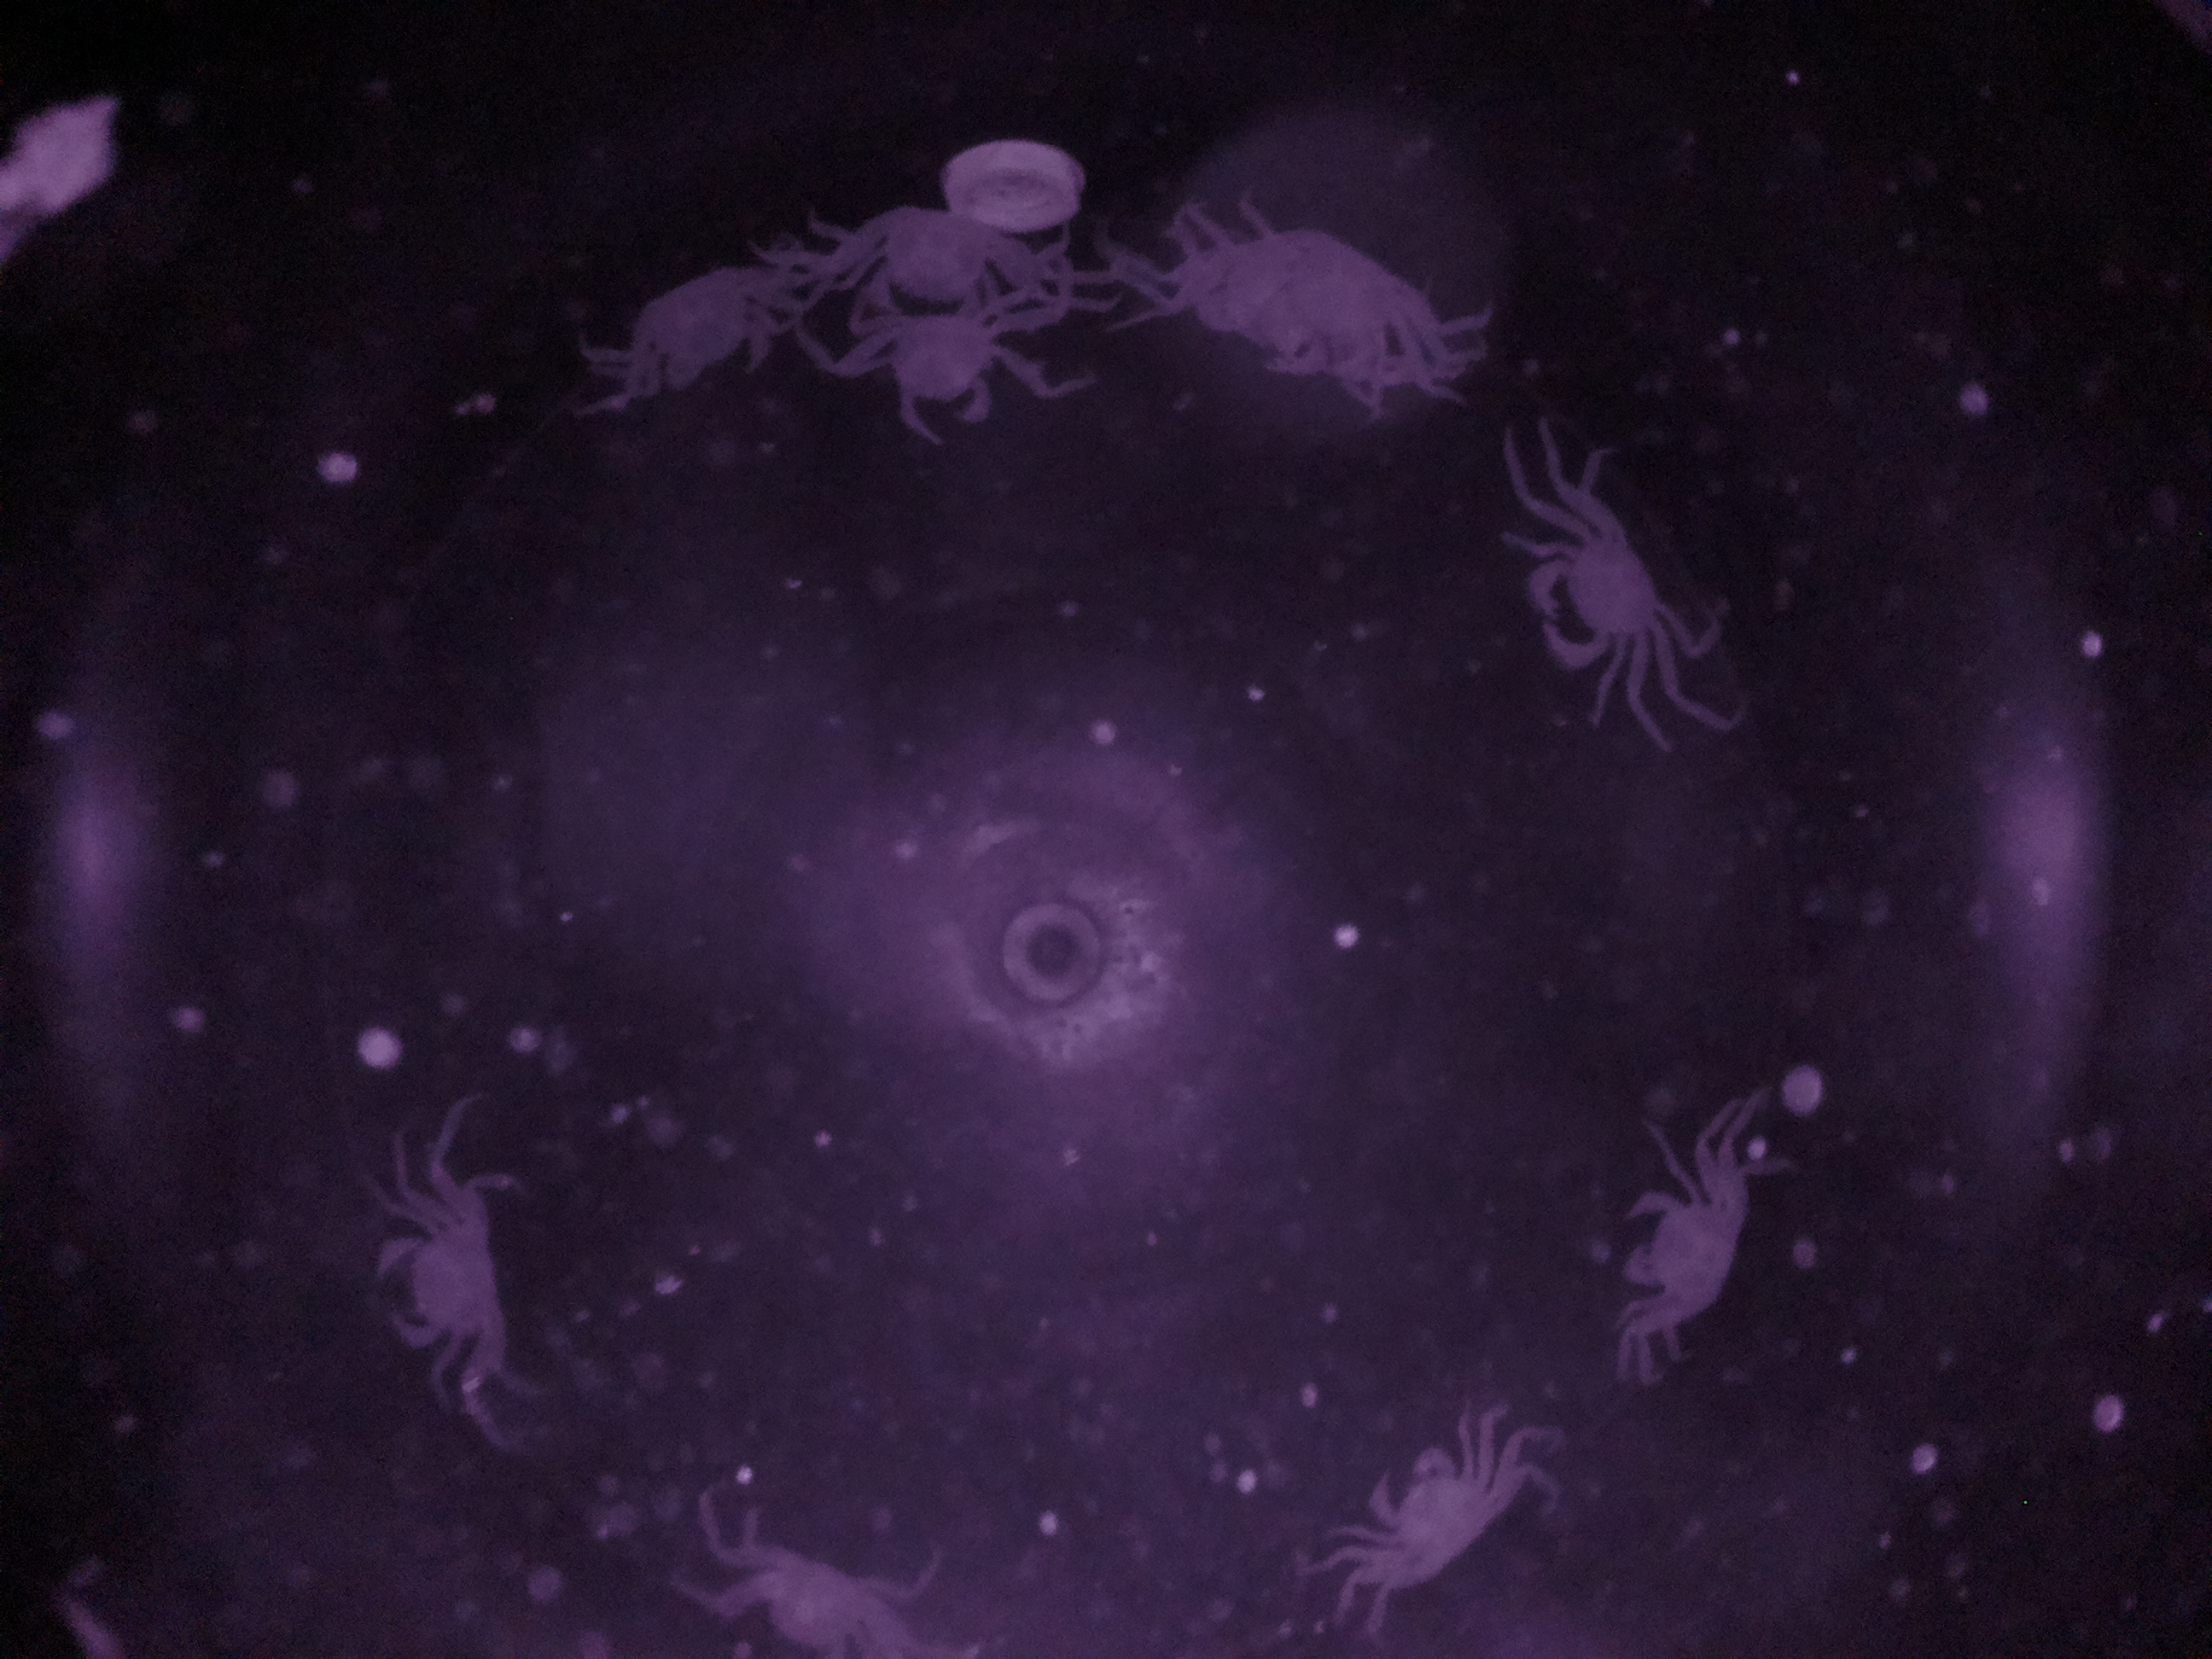Crab: (1602, 1140, 1777, 1368), (1324, 1424, 1522, 1615), (1517, 500, 1702, 701), (359, 1188, 538, 1380)
